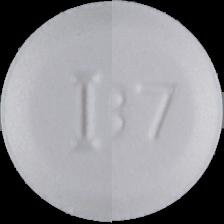50436-6624: (0, 0, 224, 224)
